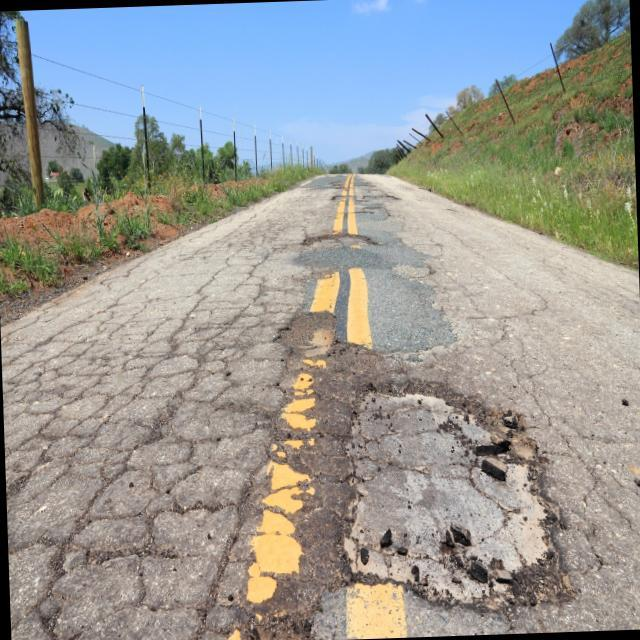Pothole: (338, 361, 570, 606), (298, 228, 380, 262)
